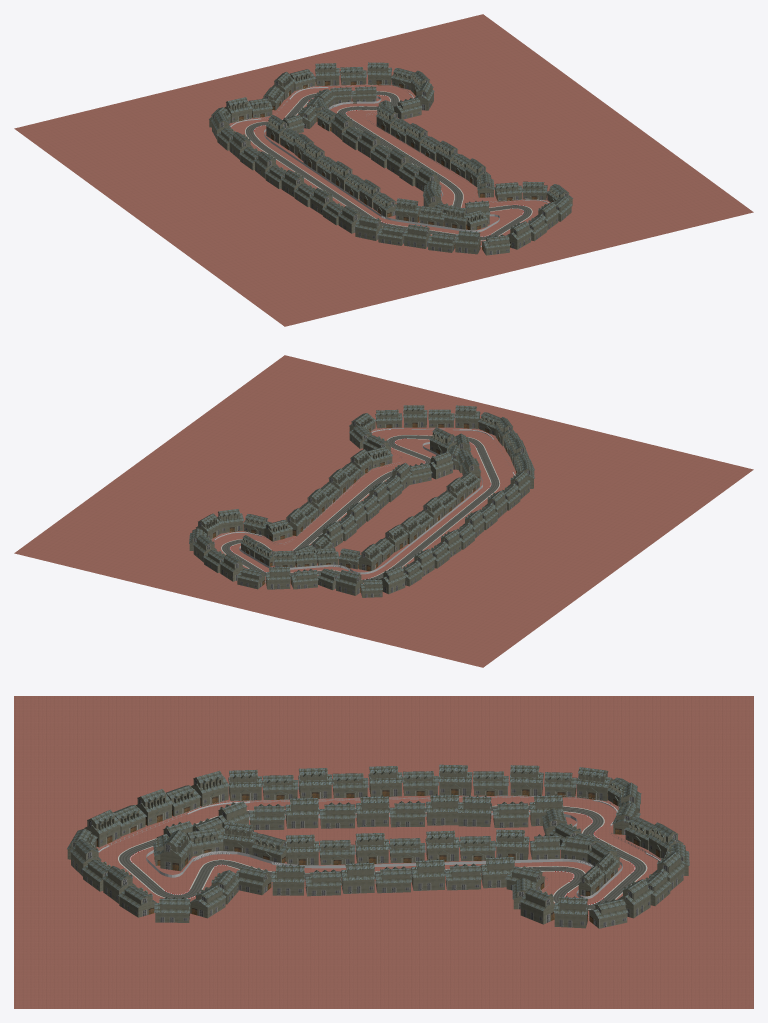
File: Track-2.fbx
The picture shows the model from 3 angles, top to bottom: view 1: azimuth 30°, elevation 25°; view 2: azimuth 150°, elevation 25°; view 3: azimuth 270°, elevation 25°; orthographic projection. The views are drawn at different scales.
Visible parts, largest first — view 1: pPlane1, polySurface97, RaceTrack, Wall2; view 2: pPlane1, polySurface97, RaceTrack, Wall2; view 3: pPlane1, polySurface97, RaceTrack, Wall2, Wall1.
Part boxes in pixels (x1=…): pPlane1: x1=14, y1=14, x2=753, y2=326; polySurface97: x1=209, y1=62, x2=573, y2=255; RaceTrack: x1=245, y1=91, x2=532, y2=240; Wall2: x1=264, y1=96, x2=499, y2=231; pPlane1: x1=14, y1=355, x2=753, y2=667; polySurface97: x1=189, y1=405, x2=534, y2=597; RaceTrack: x1=221, y1=435, x2=500, y2=583; Wall2: x1=239, y1=442, x2=482, y2=574; pPlane1: x1=14, y1=696, x2=753, y2=1008; polySurface97: x1=67, y1=764, x2=689, y2=928; RaceTrack: x1=118, y1=805, x2=647, y2=909; Wall2: x1=146, y1=812, x2=622, y2=898; Wall1: x1=98, y1=795, x2=660, y2=917.
Size of what is drawn, in the model's own units: 136160 by 6407 by 136160.
